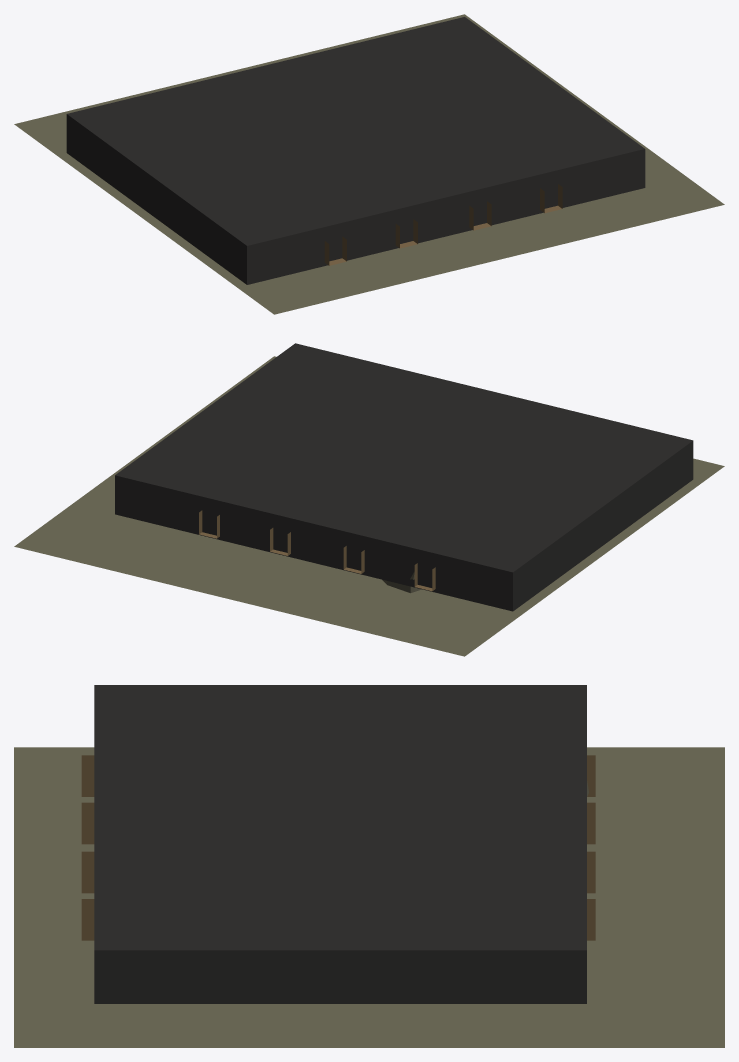
Rendered from AI_Env_Roof_01_Hole_01.fbx.
The picture shows the model from 3 angles, top to bottom: view 1: azimuth 30°, elevation 25°; view 2: azimuth 150°, elevation 25°; view 3: azimuth 270°, elevation 25°; orthographic projection. The views are drawn at different scales.
Parts seen in each view (by area): view 1: AI_Env_Roof_01_Hole_01; view 2: AI_Env_Roof_01_Hole_01; view 3: AI_Env_Roof_01_Hole_01.
Boxes of the visible parts, x1,y1,x2,y2 form: AI_Env_Roof_01_Hole_01: [14, 14, 724, 314]; AI_Env_Roof_01_Hole_01: [14, 343, 724, 656]; AI_Env_Roof_01_Hole_01: [14, 685, 724, 1047].
Bounding box in the file's own units: 5 × 0.6477 × 5.
